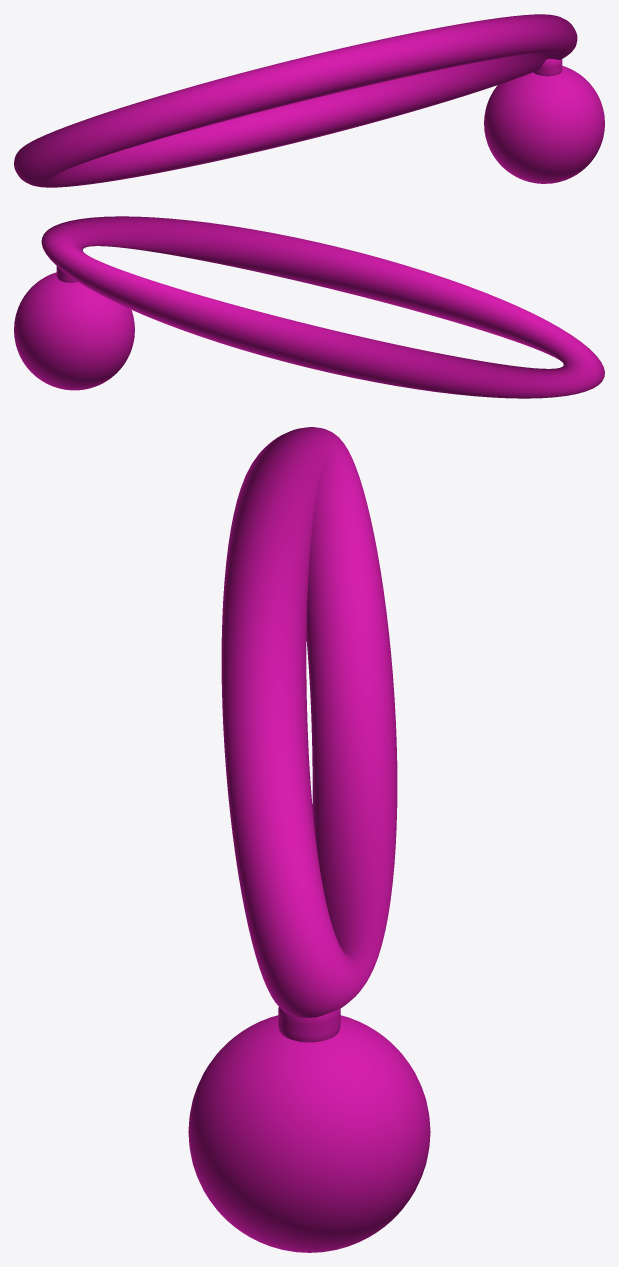
The model's file is zcollar-allmagenta-tag-3d.glb.
The picture shows the model from 3 angles, top to bottom: view 1: azimuth 30°, elevation 25°; view 2: azimuth 150°, elevation 25°; view 3: azimuth 270°, elevation 25°; orthographic projection. The views are drawn at different scales.
Visible parts, largest first — view 1: mesh_id38, mesh_id64, mesh_id72; view 2: mesh_id38, mesh_id64; view 3: mesh_id38, mesh_id64, mesh_id72.
Boxes of the visible parts, bbox=[...] form: mesh_id38: bbox=[14, 14, 577, 187]; mesh_id64: bbox=[484, 66, 604, 183]; mesh_id72: bbox=[533, 59, 562, 76]; mesh_id38: bbox=[41, 216, 604, 398]; mesh_id64: bbox=[14, 272, 134, 390]; mesh_id38: bbox=[221, 427, 397, 1017]; mesh_id64: bbox=[188, 1015, 430, 1252]; mesh_id72: bbox=[278, 1007, 340, 1042].
Size of the model in its own units: 0.3325 by 0.1031 by 0.06.
Materials: 3 (3 with a texture image).
